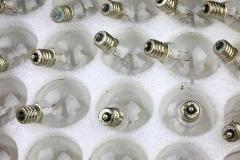lightbulb: (15, 78, 90, 128), (94, 30, 134, 68), (144, 39, 188, 63), (30, 47, 66, 67), (100, 1, 124, 20), (50, 5, 74, 23), (154, 1, 178, 16), (1, 0, 6, 14)
